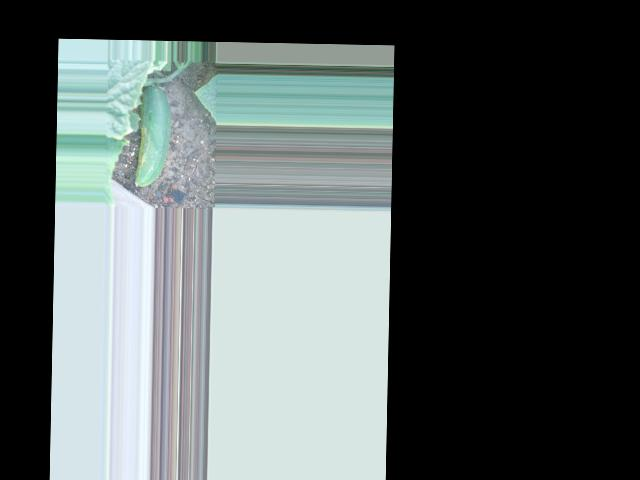cucumber: (134, 86, 171, 187)
